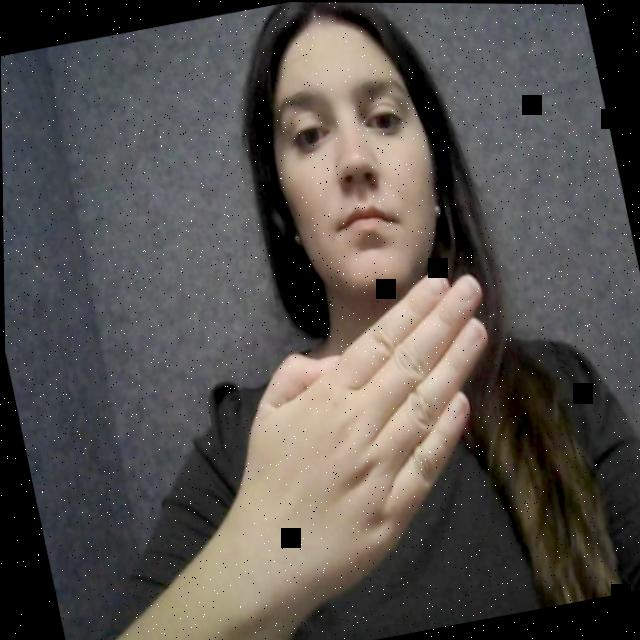Paper: (189, 256, 527, 596)
